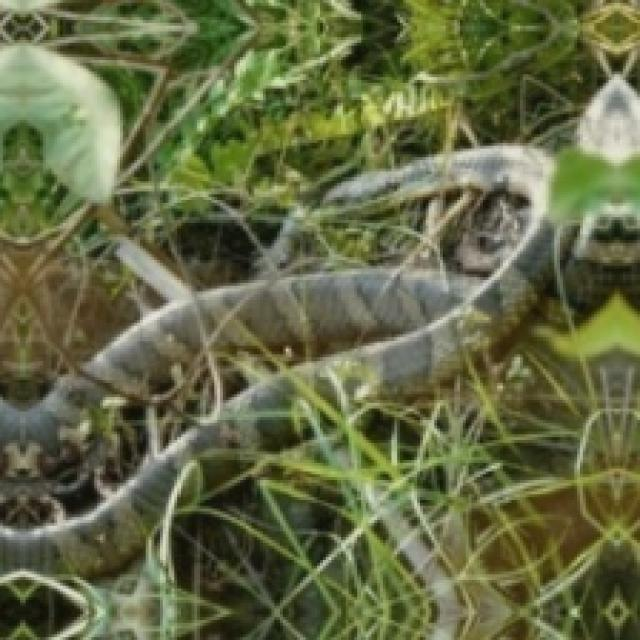king cobra: (0, 146, 637, 637)
